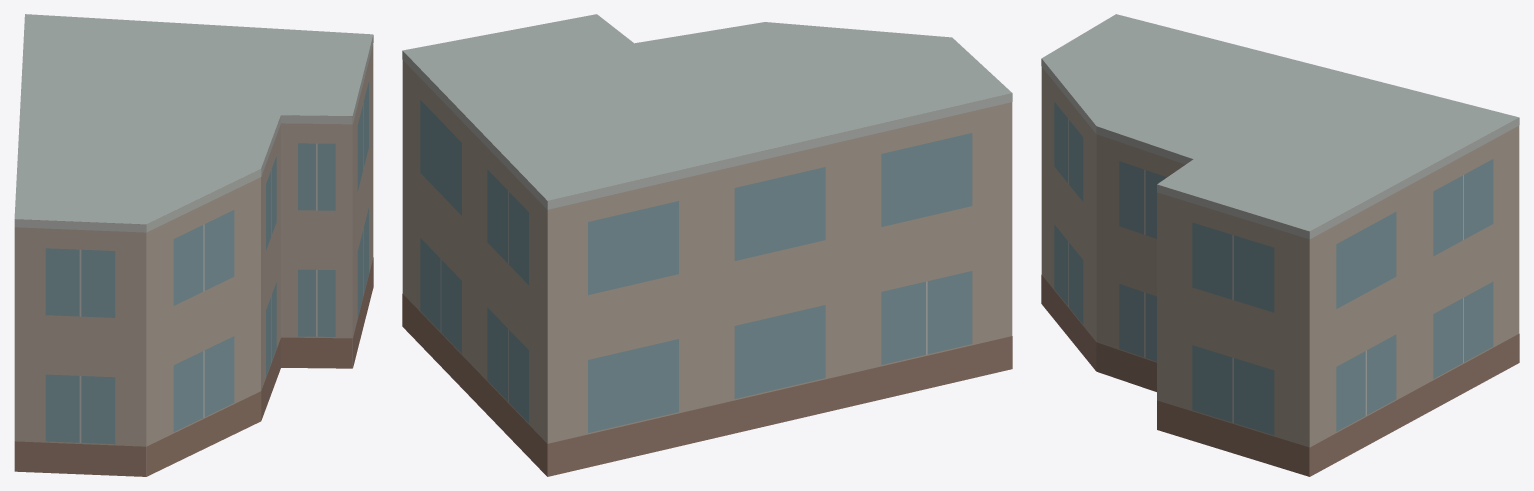
Rendered from survey-upis-32629656.glb.
The picture shows the model from 3 angles, left to right: view 1: azimuth 30°, elevation 25°; view 2: azimuth 150°, elevation 25°; view 3: azimuth 270°, elevation 25°; orthographic projection. The views are drawn at different scales.
Parts seen in each view (by area): view 1: survey-upis-32629656.tmp; view 2: survey-upis-32629656.tmp; view 3: survey-upis-32629656.tmp.
Part boxes in pixels (x1,y1,x2,y2): survey-upis-32629656.tmp: (14, 14, 373, 476); survey-upis-32629656.tmp: (402, 14, 1012, 476); survey-upis-32629656.tmp: (1041, 14, 1519, 476).
Bounding box in the file's own units: 14.26 × 7.5 × 13.25.
